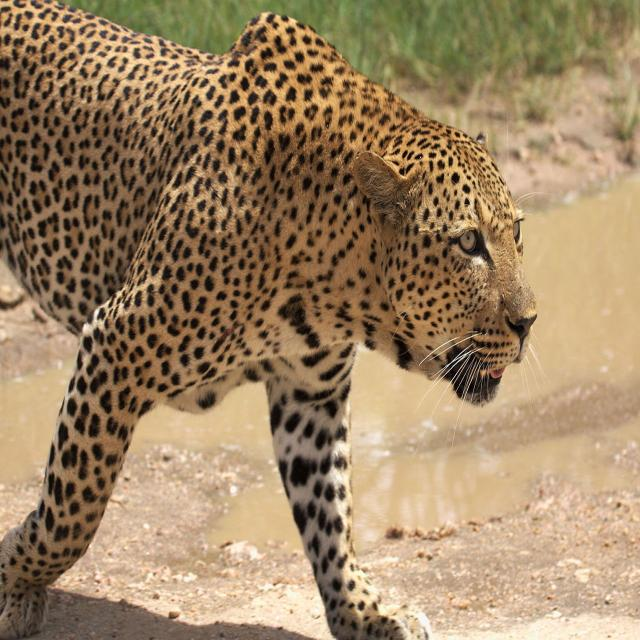Leopard: (4, 7, 535, 640)
